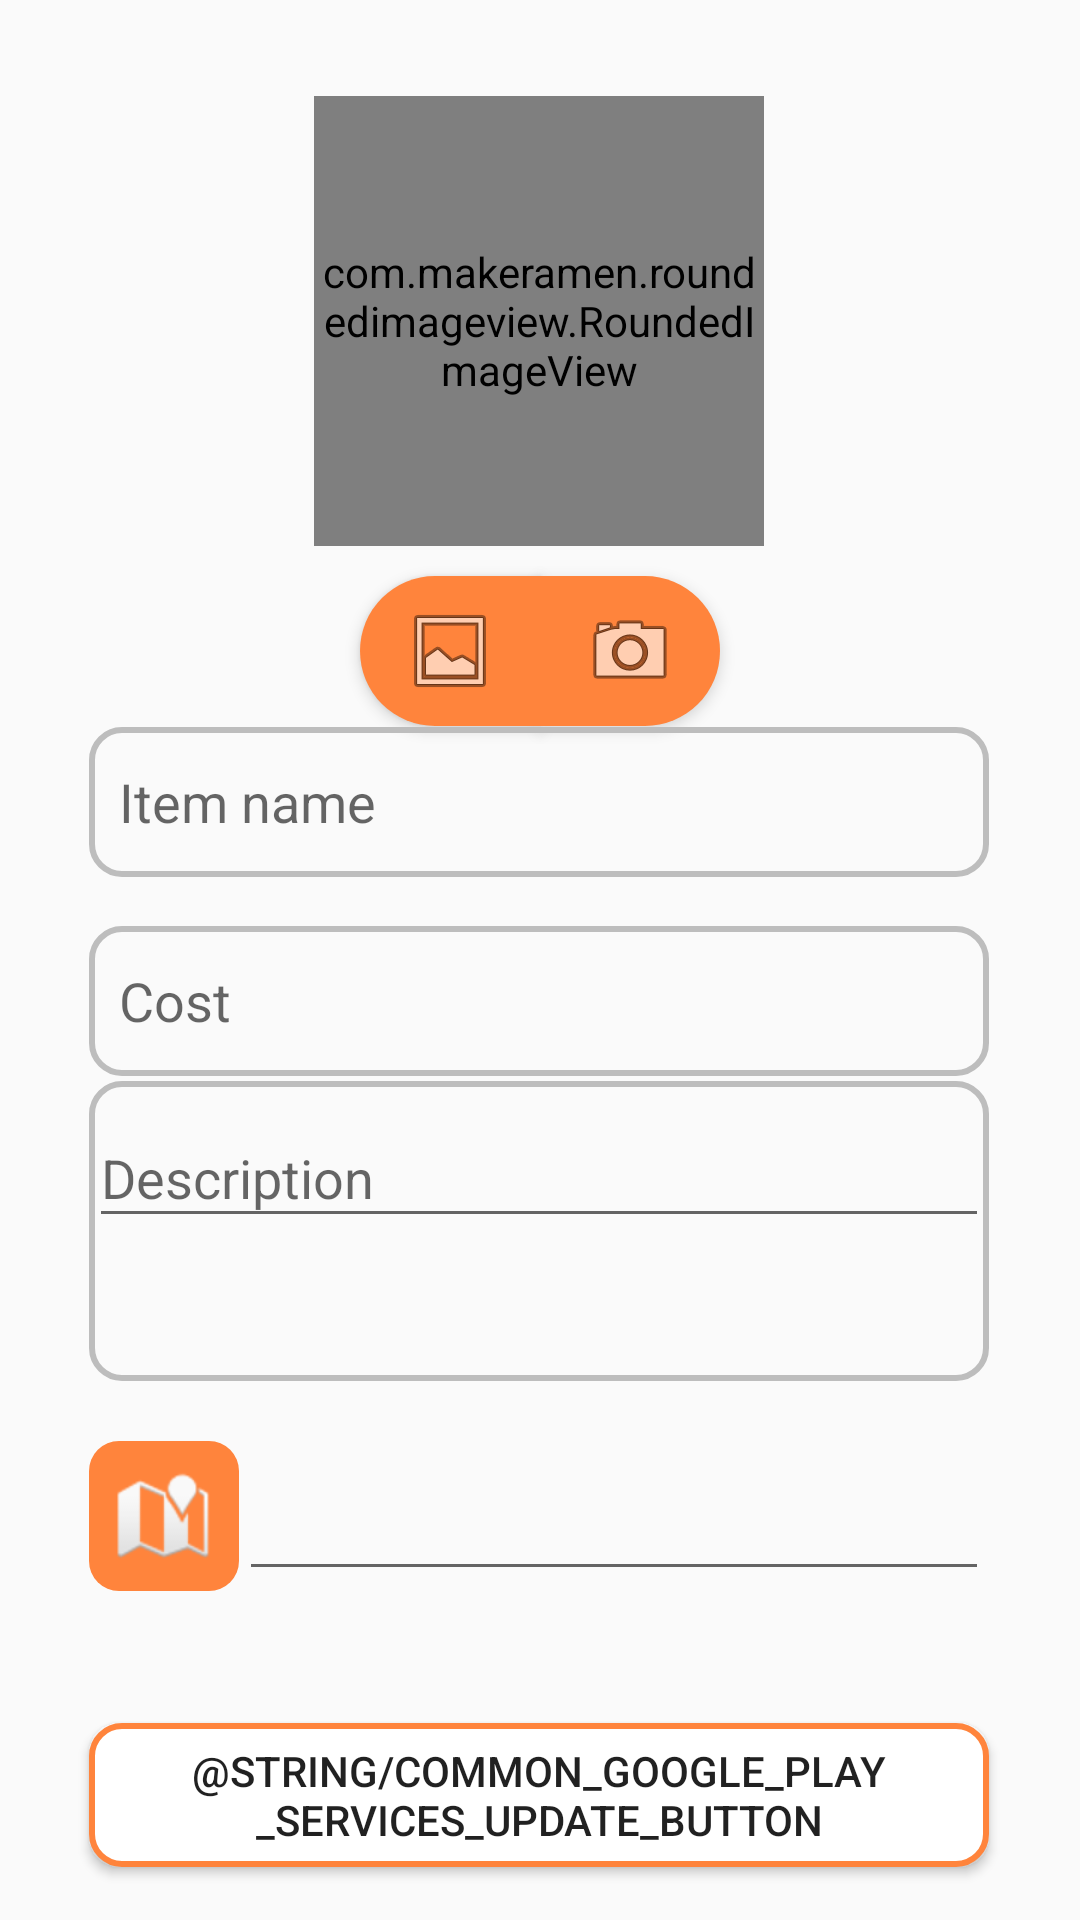

Screen size 1080w x 1920h. Icon name, then its center in pixels as (x=x, y=y):
camera: (x=630, y=651)
gallery: (x=450, y=651)
map: (x=164, y=1516)
